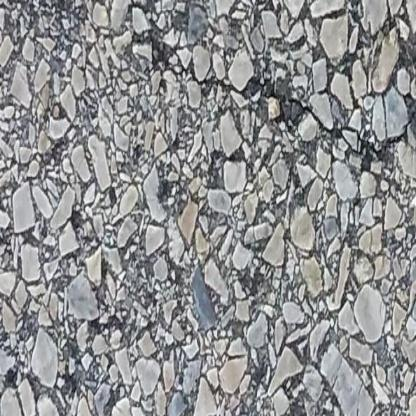Cracks: (340, 101, 416, 156)
